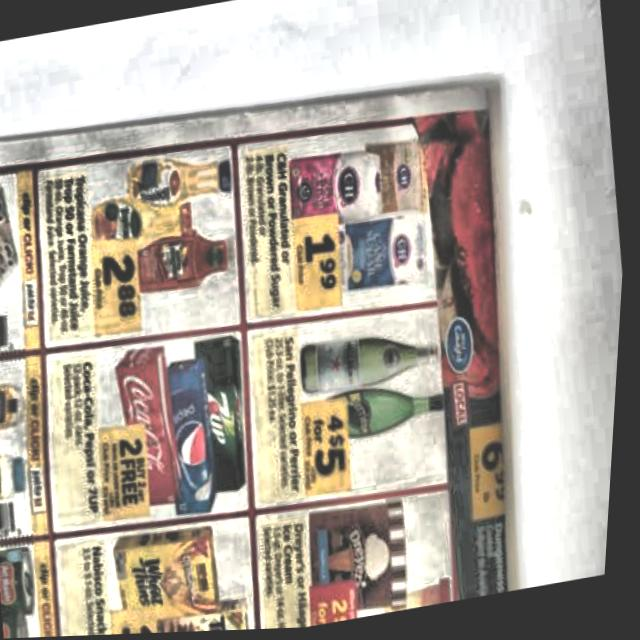Paper: (0, 28, 568, 640)
